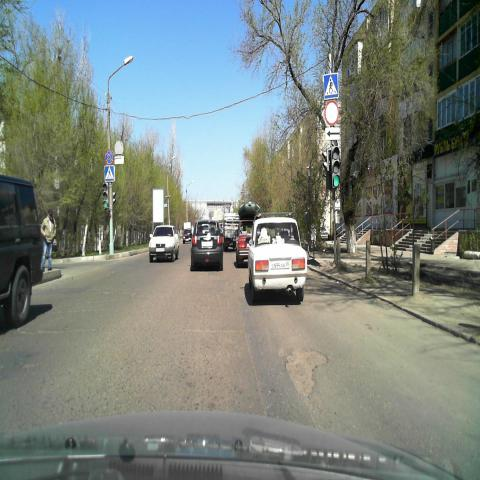3_2: (325, 102, 338, 126)
8_3_2: (325, 127, 340, 140)
